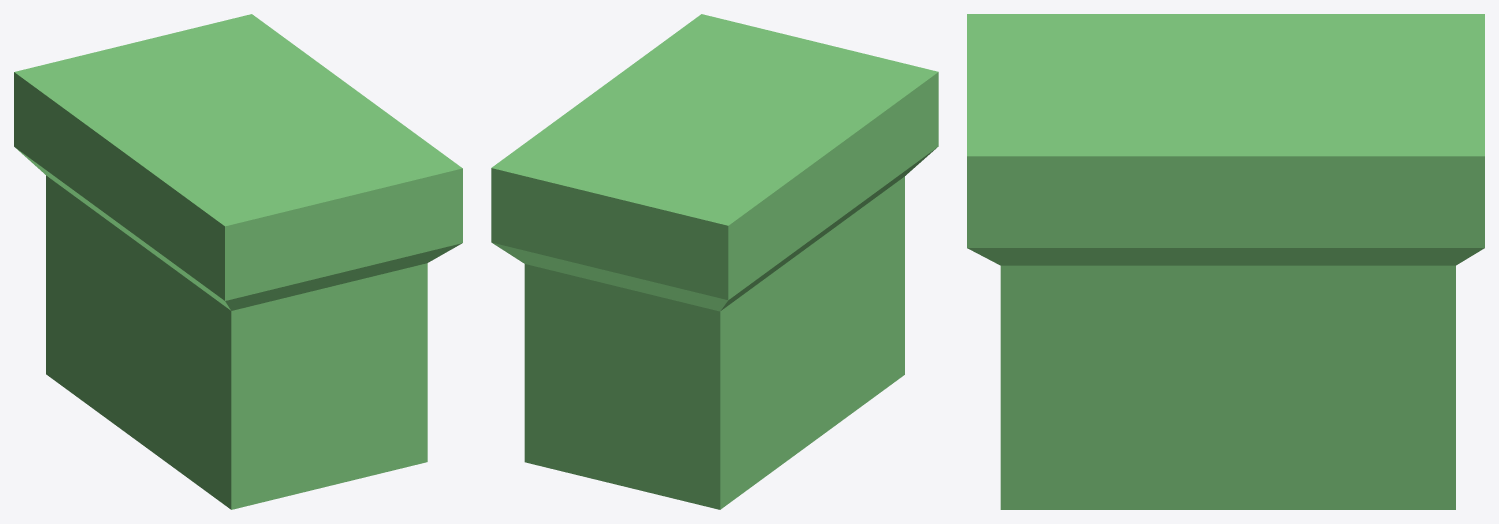
The model's file is Bld3_Deco_Collumn_Top.fbx.
3 views of the same model, side by side, from view 1: azimuth 30°, elevation 25°; view 2: azimuth 150°, elevation 25°; view 3: azimuth 270°, elevation 25° (orthographic). The views are drawn at different scales.
Visible parts, largest first — view 1: Bld3_Deco_Collumn_Top; view 2: Bld3_Deco_Collumn_Top; view 3: Bld3_Deco_Collumn_Top.
Part boxes in pixels (x1=…): Bld3_Deco_Collumn_Top: x1=14, y1=14, x2=462, y2=509; Bld3_Deco_Collumn_Top: x1=491, y1=14, x2=938, y2=509; Bld3_Deco_Collumn_Top: x1=967, y1=14, x2=1484, y2=509.
Bounding box in the file's own units: 100 × 120 × 154.
